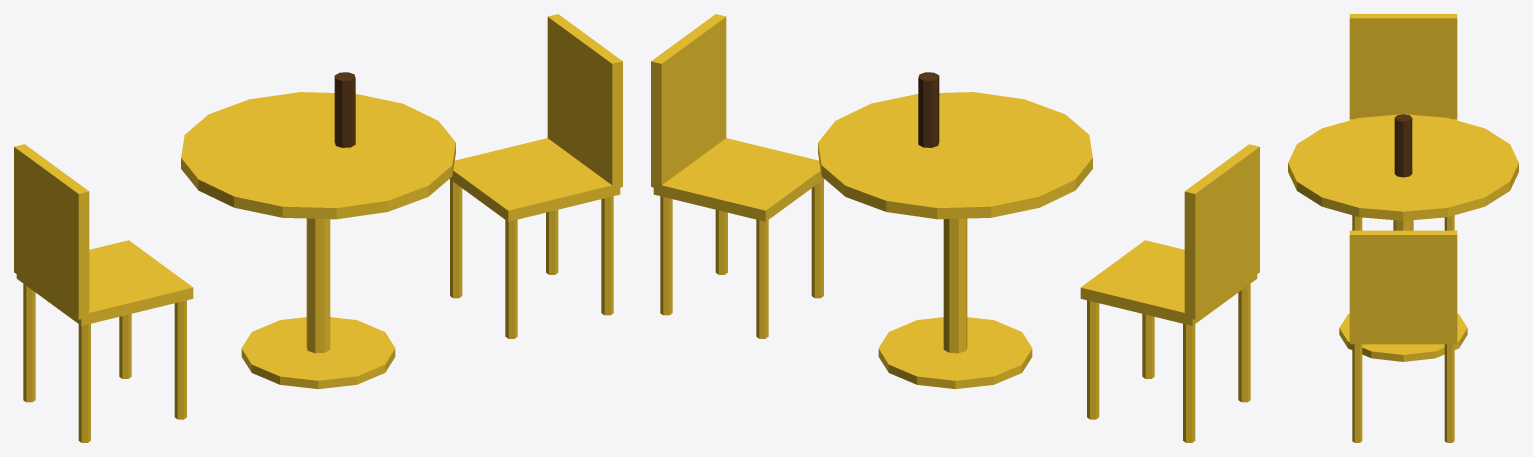
File: bar_table.glb
The picture shows the model from 3 angles, left to right: view 1: azimuth 30°, elevation 25°; view 2: azimuth 150°, elevation 25°; view 3: azimuth 270°, elevation 25°; orthographic projection. The views are drawn at different scales.
Parts seen in each view (by area): view 1: Cylinder; view 2: Cylinder; view 3: Cylinder.
Part boxes in pixels (x1=…): Cylinder: x1=14, y1=14, x2=622, y2=442; Cylinder: x1=651, y1=14, x2=1259, y2=442; Cylinder: x1=1288, y1=14, x2=1518, y2=442.
Bounding box in the file's own units: 2.04 × 0.98 × 0.9.
